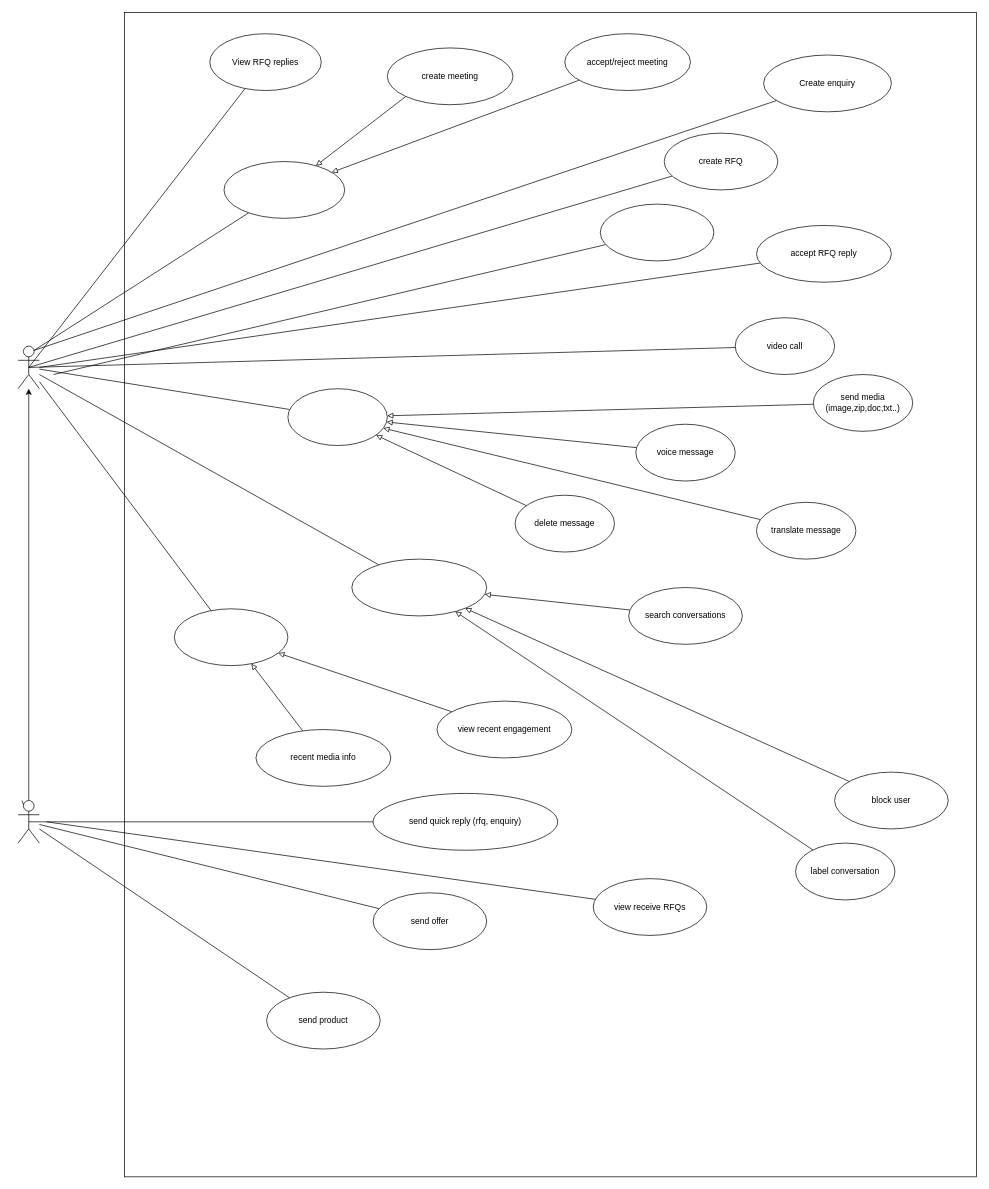
Some shapes in this 989 by 1189 pixel diagram are drawn without their labels. Each missing label, with the centre of its shape:
"create conversation" belongs at point 419,587.
"Exhibitor" belongs at point 28,821.
"message" belongs at point 337,417.
"view Meeting schedule" belongs at point 284,189.
"view profile" belongs at point 231,637.
"View sent RFQs" belongs at point 657,232.
"Visitor" belongs at point 28,367.
